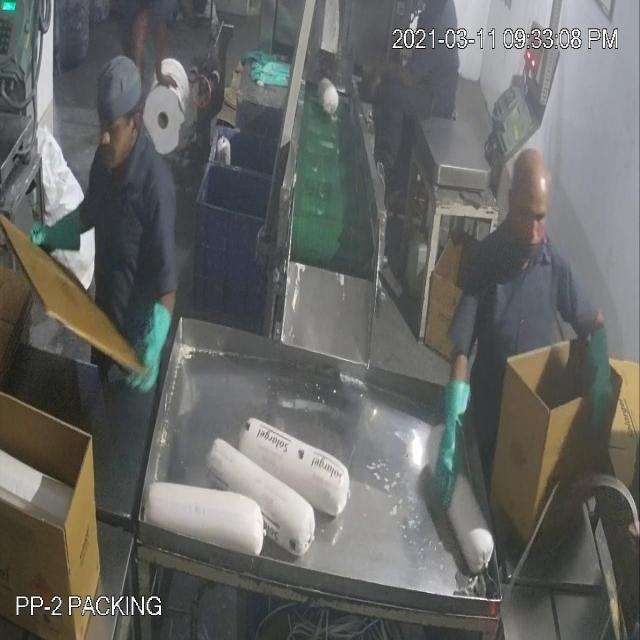No_Gloves: (30, 58, 598, 446)
